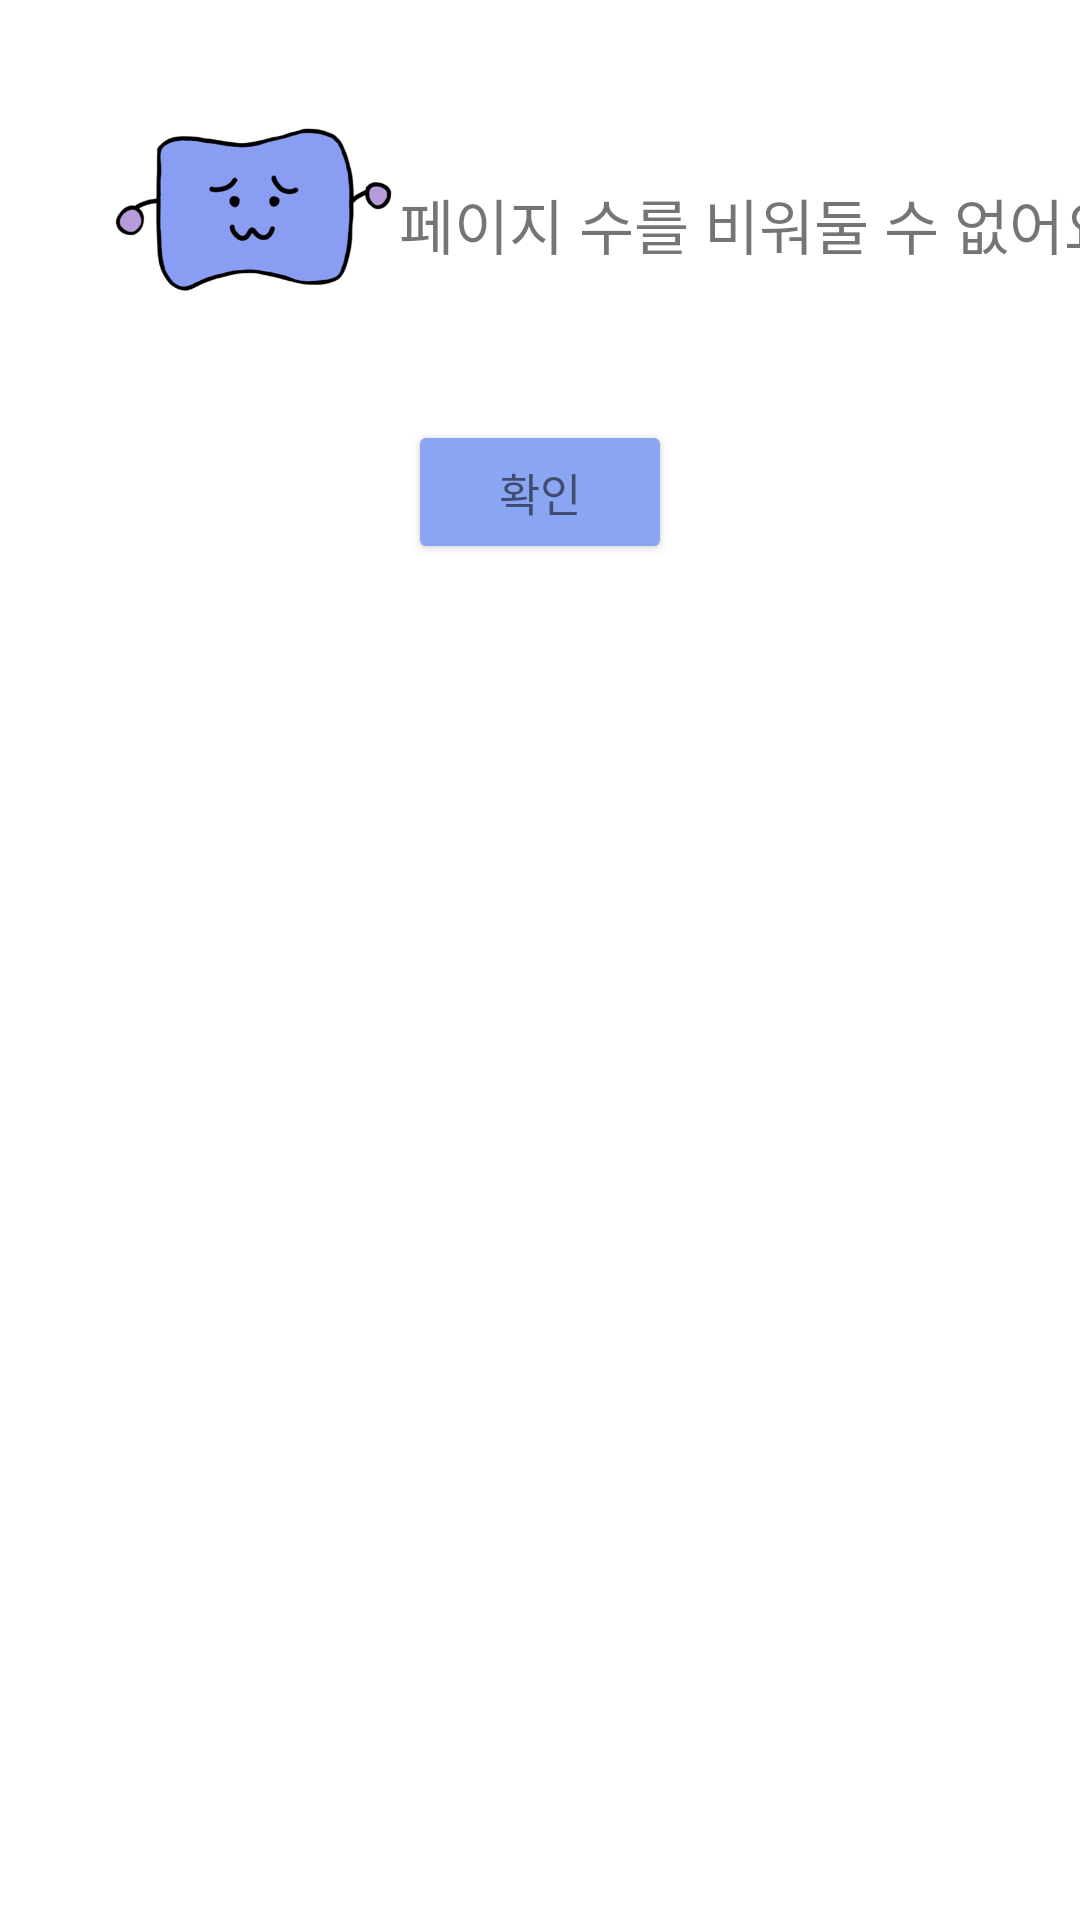

Screen size 1080w x 1920h. Icon name, then its box in pixels as (x1, y1, x2, y2):
sad bb: (116, 128, 392, 291)
